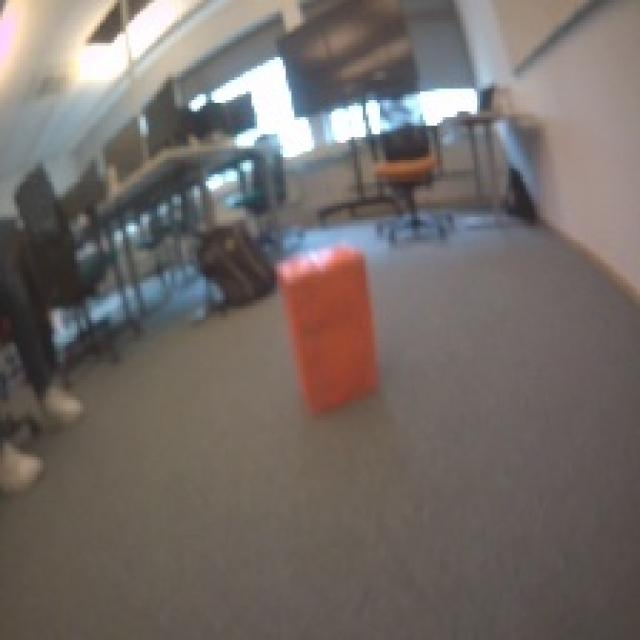target: (271, 240, 383, 414)
